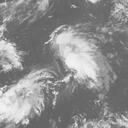cyclone: (46, 27, 109, 94)
